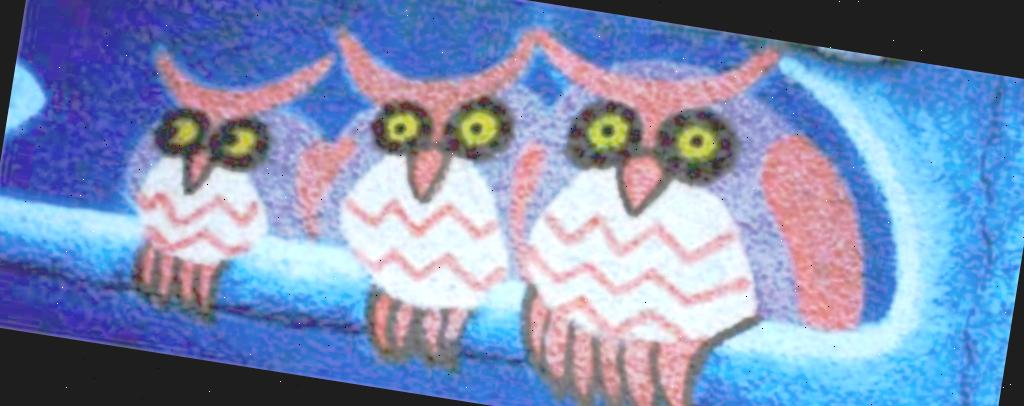Owl: (476, 16, 901, 406), (282, 0, 576, 382), (116, 25, 340, 335)
